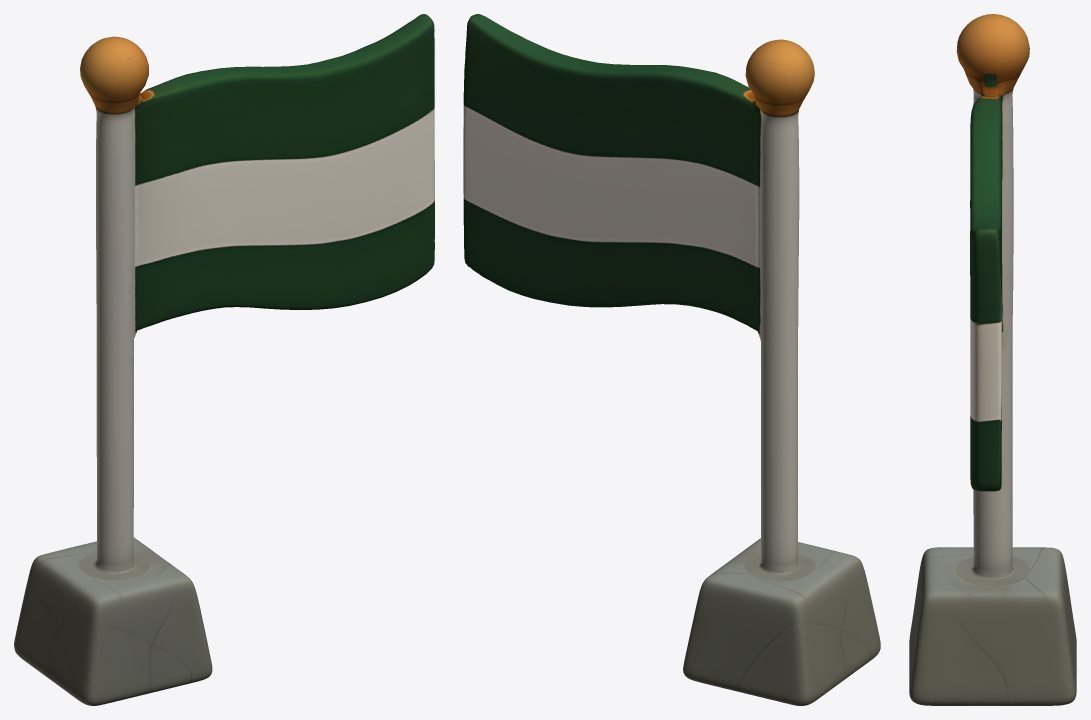
Rendered from Bandera_blancoy_verde.fbx.
3 renders of one model, left to right at view 1: azimuth 30°, elevation 25°; view 2: azimuth 150°, elevation 25°; view 3: azimuth 270°, elevation 25°, orthographic. The views are drawn at different scales.
Parts seen in each view (by area): view 1: Retopo_model; view 2: Retopo_model; view 3: Retopo_model.
Boxes of the visible parts, x1,y1,x2,y2 form: Retopo_model: (14, 14, 434, 705); Retopo_model: (463, 14, 880, 705); Retopo_model: (909, 14, 1076, 705).
Bounding box in the file's own units: 121 × 190 × 43.62.
1 material, 1 textured.
